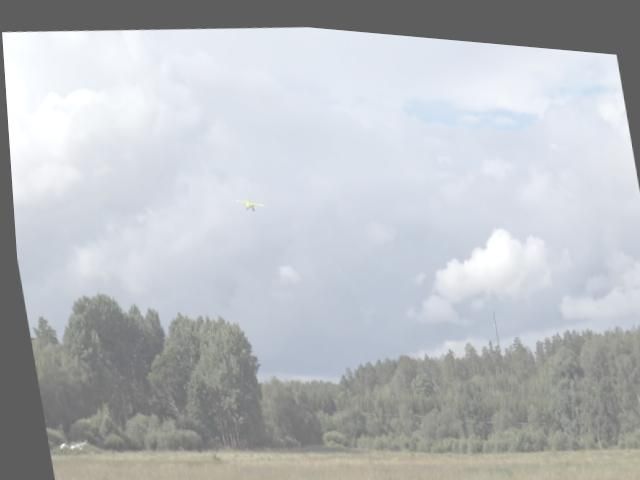plane: (233, 190, 261, 210)
